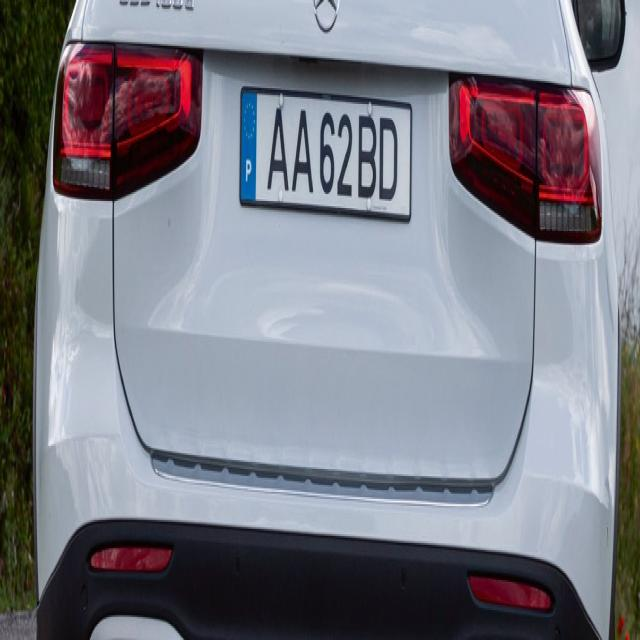portuguese-license-plates: (238, 82, 415, 225)
